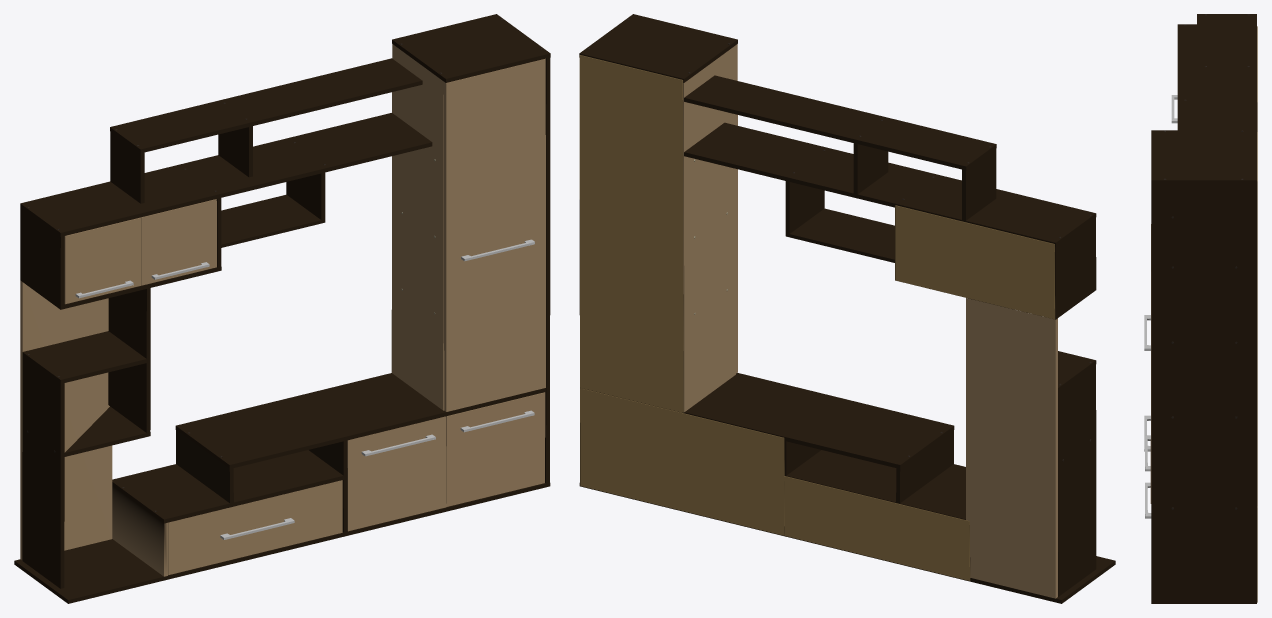
The model's file is closet.lod0.glb.
3 views of the same model, side by side, from view 1: azimuth 30°, elevation 25°; view 2: azimuth 150°, elevation 25°; view 3: azimuth 270°, elevation 25° (orthographic). The views are drawn at different scales.
Visible parts, largest first — view 1: Corpus_Furniture1Wood1_0; view 2: Corpus_Furniture1Wood1_0; view 3: Corpus_Furniture1Wood1_0.
Boxes of the visible parts, x1,y1,x2,y2 form: Corpus_Furniture1Wood1_0: (14,14,550,603); Corpus_Furniture1Wood1_0: (579,14,1115,603); Corpus_Furniture1Wood1_0: (1144,14,1257,603).
Bounding box in the file's own units: 2.55 × 2.2 × 0.5301.
